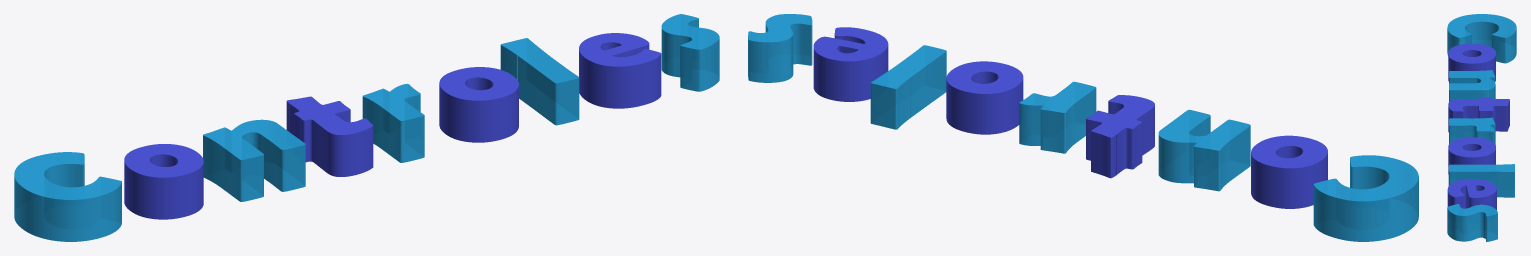
Rendered from 3DTextControls.fbx.
3 renders of one model, left to right at view 1: azimuth 30°, elevation 25°; view 2: azimuth 150°, elevation 25°; view 3: azimuth 270°, elevation 25°, orthographic. The views are drawn at different scales.
Parts seen in each view (by area): view 1: Text; view 2: Text; view 3: Text.
Part boxes in pixels (x1,y1,x2,y2): Text: (14, 14, 719, 241); Text: (748, 14, 1418, 241); Text: (1447, 14, 1516, 241).
Size of the model in its own units: 5.42 by 0.32 by 0.7836.
